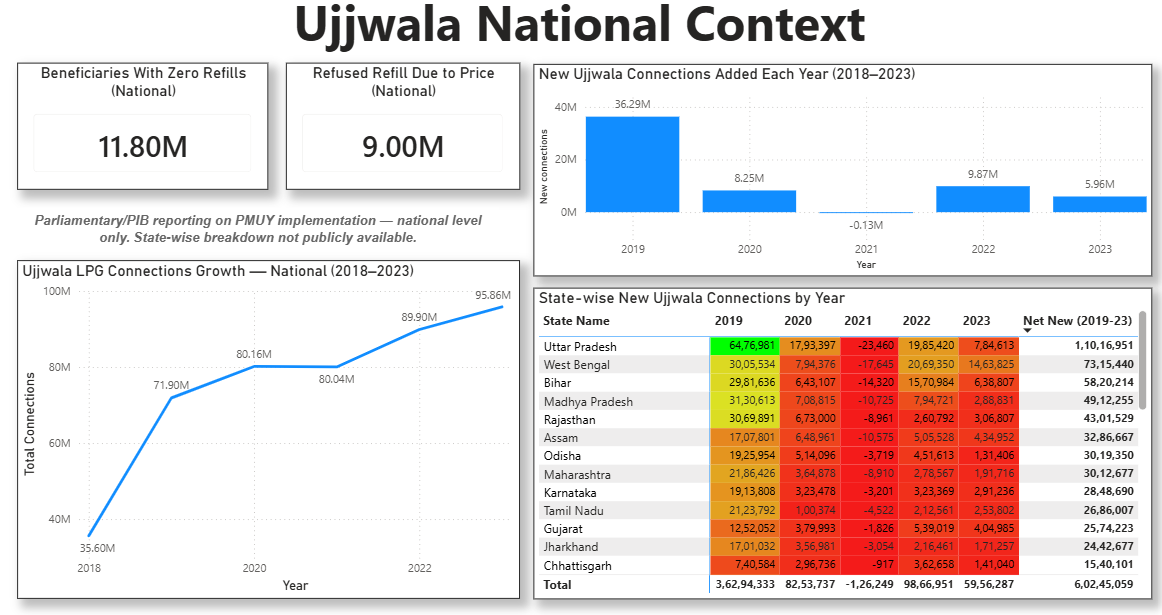

Layout of this report page (visuals, bound fields, positions):
{"tool":"powerbi","page":{"name":"Ujjwala National Context","canvas":[1280,720],"ordinal":3},"visuals":[{"type":"textbox","box":[23.3,26.9,1233.1,87.8],"z":0},{"type":"cardVisual","title":"Beneficiaries With Zero Refills (National)","fields":{"Data":["Sum(national_ujjwala_refill_note.beneficiaries_zero_refills_national)"]},"box":[23,114.2,275.5,139.3],"z":2000},{"type":"cardVisual","title":"Refused Refill Due to Price (National)","fields":{"Data":["Sum(national_ujjwala_refill_note.beneficiaries_refused_refill_high_price_national)"]},"box":[317.4,114.2,256.6,139.3],"z":3000},{"type":"lineChart","title":"Ujjwala LPG Connections Growth — National (2018–2023)","fields":{"Category":["pmay_analytics clean_pmuy_connections.scheme_year"],"Y":["Sum(pmay_analytics clean_pmuy_connections.cumulative_connections)"]},"box":[23,331,551,370.8],"z":5000},{"type":"textbox","box":[23,272.3,527.9,47.1],"z":5001},{"type":"columnChart","title":"New Ujjwala Connections Added Each Year (2018–2023)","fields":{"Category":["pmay_analytics clean_pmuy_connections.scheme_year"],"Y":["Sum(pmay_analytics clean_pmuy_connections.new_connections_this_year)"]},"box":[589.7,115.2,678.8,232.5],"z":5002},{"type":"pivotTable","title":"State-wise New Ujjwala Connections by Year","fields":{"Rows":["pmay_analytics clean_pmuy_connections.state_name"],"Columns":["pmay_analytics clean_pmuy_connections.scheme_year"],"Values":["Sum(pmay_analytics clean_pmuy_connections.new_connections_this_year)"]},"box":[589.7,360.3,678.8,341.5],"z":5003}]}

Visuals, with their boxes in screenshot pixels (x1, y1, x2, y2):
textbox: select_region(18, 0, 1133, 64)
"Beneficiaries With Zero Refills (National)" cardVisual: select_region(18, 64, 267, 190)
"Refused Refill Due to Price (National)" cardVisual: select_region(284, 64, 516, 190)
"Ujjwala LPG Connections Growth — National (2018–2023)" lineChart: select_region(18, 260, 516, 595)
textbox: select_region(18, 207, 495, 250)
"New Ujjwala Connections Added Each Year (2018–2023)" columnChart: select_region(530, 65, 1144, 275)
"State-wise New Ujjwala Connections by Year" pivotTable: select_region(530, 287, 1144, 595)
